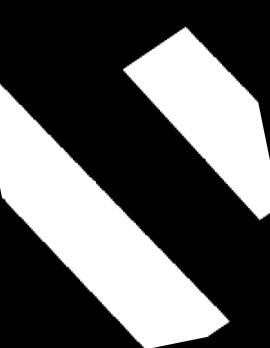parkingspot: (0, 84, 229, 348), (123, 27, 270, 220)
